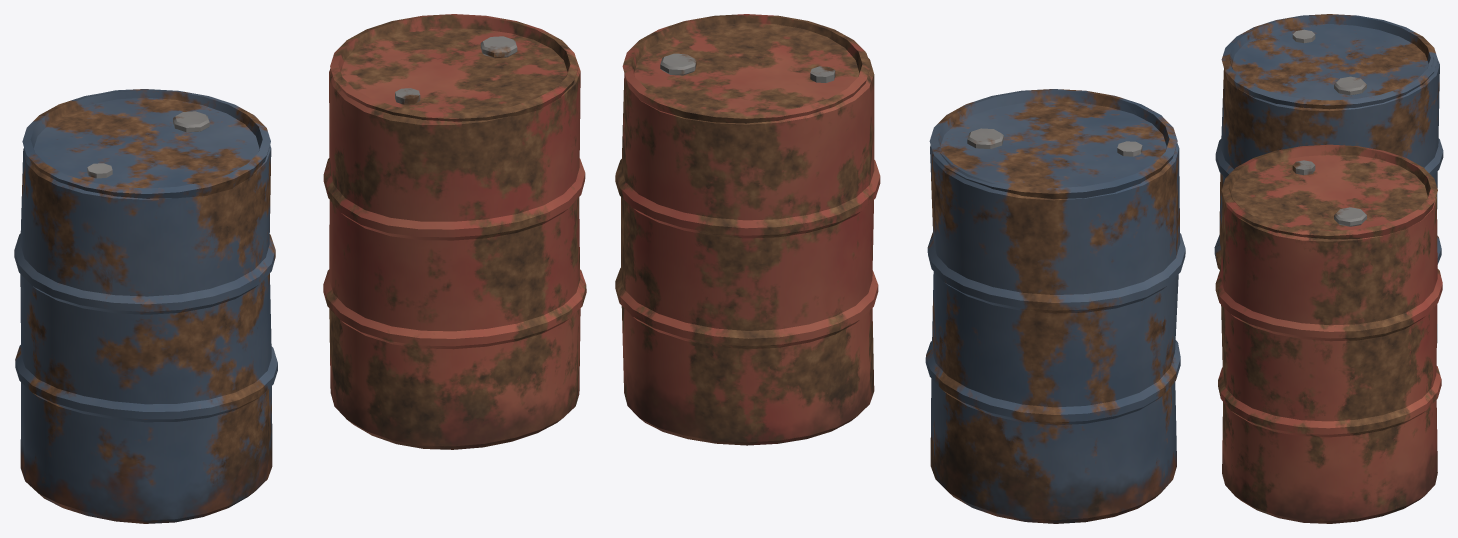
The model's file is FuelDrum.fbx.
The picture shows the model from 3 angles, left to right: view 1: azimuth 30°, elevation 25°; view 2: azimuth 150°, elevation 25°; view 3: azimuth 270°, elevation 25°; orthographic projection. The views are drawn at different scales.
Visible parts, largest first — view 1: FuelDrum_Red, FuelDrum; view 2: FuelDrum_Red, FuelDrum; view 3: FuelDrum_Red, FuelDrum.
Part boxes in pixels (left/top/right/bottom): FuelDrum_Red: left=323, top=14, right=586, bottom=449; FuelDrum: left=14, top=89, right=277, bottom=523; FuelDrum_Red: left=615, top=14, right=880, bottom=445; FuelDrum: left=925, top=89, right=1185, bottom=523; FuelDrum_Red: left=1215, top=144, right=1442, bottom=523; FuelDrum: left=1214, top=14, right=1443, bottom=342.
Bounding box in the file's own units: 146 × 87.94 × 62.23.
1 material, 1 textured.
